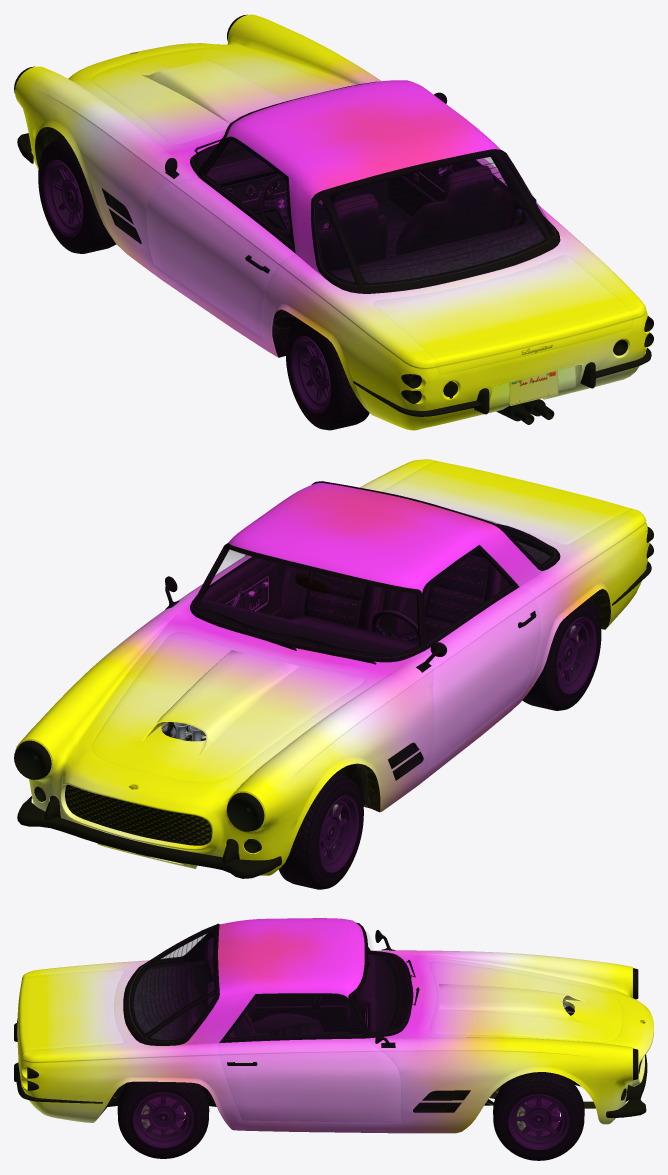
File: casco.glb
The picture shows the model from 3 angles, top to bottom: view 1: azimuth 30°, elevation 25°; view 2: azimuth 150°, elevation 25°; view 3: azimuth 270°, elevation 25°; orthographic projection. The views are drawn at different scales.
Visible parts, largest first — view 1: bodyshell, extra_2, chassis, windscreen_r, boot, door_dside_f, bonnet, wheel_lr, wheel_lf, window_lf, door_pside_f, bumper_r (+2 smaller); view 2: bodyshell, bonnet, chassis, extra_2, door_dside_f, boot, wheel_lf, wheel_lr, bumper_f, window_lf, door_pside_f, window_lr (+1 smaller); view 3: bodyshell, extra_2, door_pside_f, chassis, bonnet, boot, wheel_rf, wheel_rr, windscreen_r, window_rf, door_dside_f, window_rr (+2 smaller).
Part boxes in pixels (<box>): bodyshell: <box>14,14,653,430</box>; extra_2: <box>226,80,560,293</box>; chassis: <box>35,127,550,398</box>; windscreen_r: <box>325,153,548,285</box>; boot: <box>373,255,632,374</box>; door_dside_f: <box>146,136,295,337</box>; bonnet: <box>91,47,343,144</box>; wheel_lr: <box>285,319,369,430</box>; wheel_lf: <box>38,137,116,253</box>; window_lf: <box>206,141,291,243</box>; door_pside_f: <box>397,158,536,230</box>; bumper_r: <box>353,348,651,416</box>; bodyshell: <box>14,459,653,875</box>; bonnet: <box>91,632,364,782</box>; chassis: <box>67,541,610,843</box>; extra_2: <box>228,481,560,592</box>; door_dside_f: <box>422,545,540,769</box>; boot: <box>381,460,630,544</box>; wheel_lf: <box>278,773,363,889</box>; wheel_lr: <box>522,599,601,710</box>; bumper_f: <box>17,795,281,878</box>; window_lf: <box>424,550,511,641</box>; door_pside_f: <box>178,555,286,617</box>; window_lr: <box>502,527,554,564</box>; bodyshell: <box>17,922,653,1133</box>; extra_2: <box>123,918,364,1045</box>; door_pside_f: <box>218,993,400,1122</box>; chassis: <box>98,937,642,1117</box>; bonnet: <box>429,961,622,1041</box>; boot: <box>17,969,123,1059</box>; wheel_rf: <box>493,1072,584,1160</box>; wheel_rr: <box>117,1081,209,1158</box>; windscreen_r: <box>130,927,214,1035</box>; window_rf: <box>227,996,360,1038</box>; door_dside_f: <box>252,996,347,1031</box>; window_rr: <box>147,993,214,1041</box>.
Bounding box in the file's own units: 1.82 × 1.29 × 4.52.
Materials: 16 (16 with a texture image).
